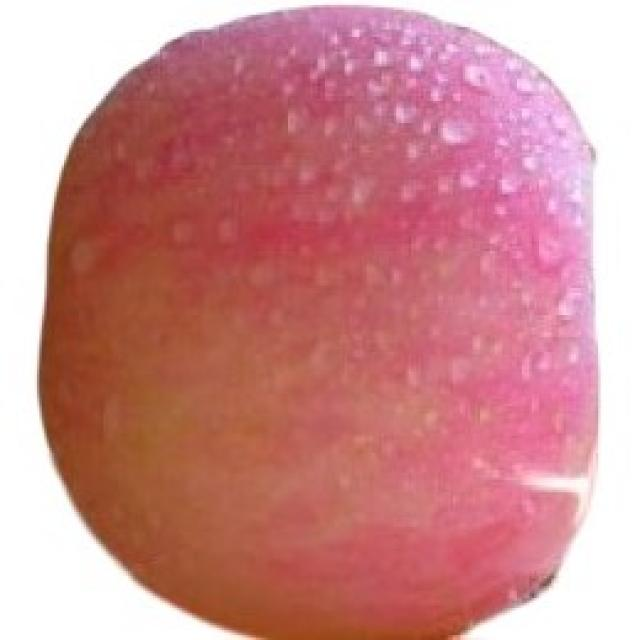100-_ripeness: (46, 8, 604, 620)
